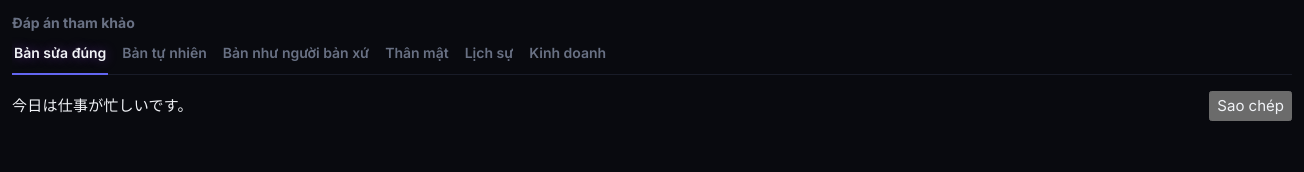
it: CorrectionTabs › shows all three base corrections and register variants
The width and height of the screenshot is (1304, 172).
Expected: the heading "Đáp án tham khảo" is shown, [12,14,135,31]
Expected: the tab "Bản sửa đúng" is shown, [12,34,108,75]
Click the tab "Kinh doanh". click: (568, 55)
box: [527,34,608,75]
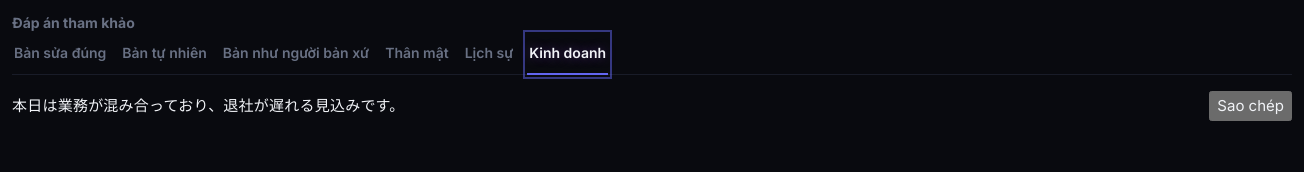
Now the text "本日は業務が混み合っており、退社が遅れる見込みです。" is shown, box [12,94,405,115]
